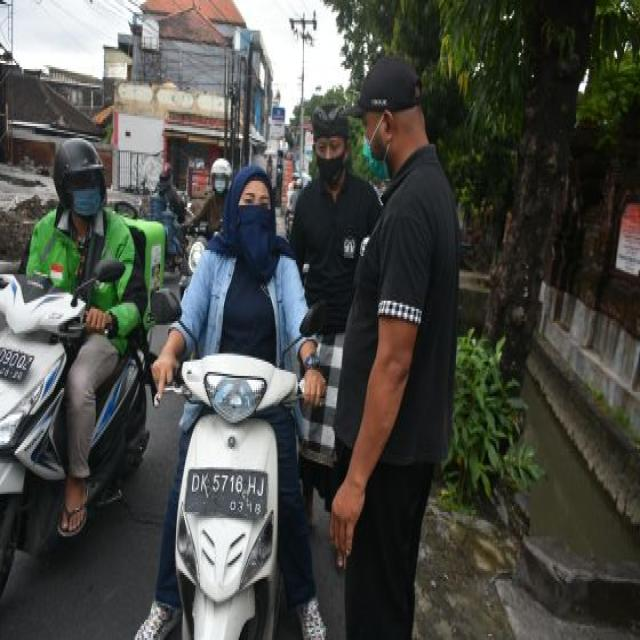plate: (186, 469, 269, 520), (1, 343, 34, 386), (179, 274, 192, 288)
